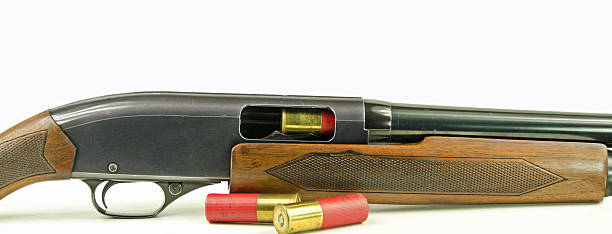shotgun: (2, 89, 611, 232)
